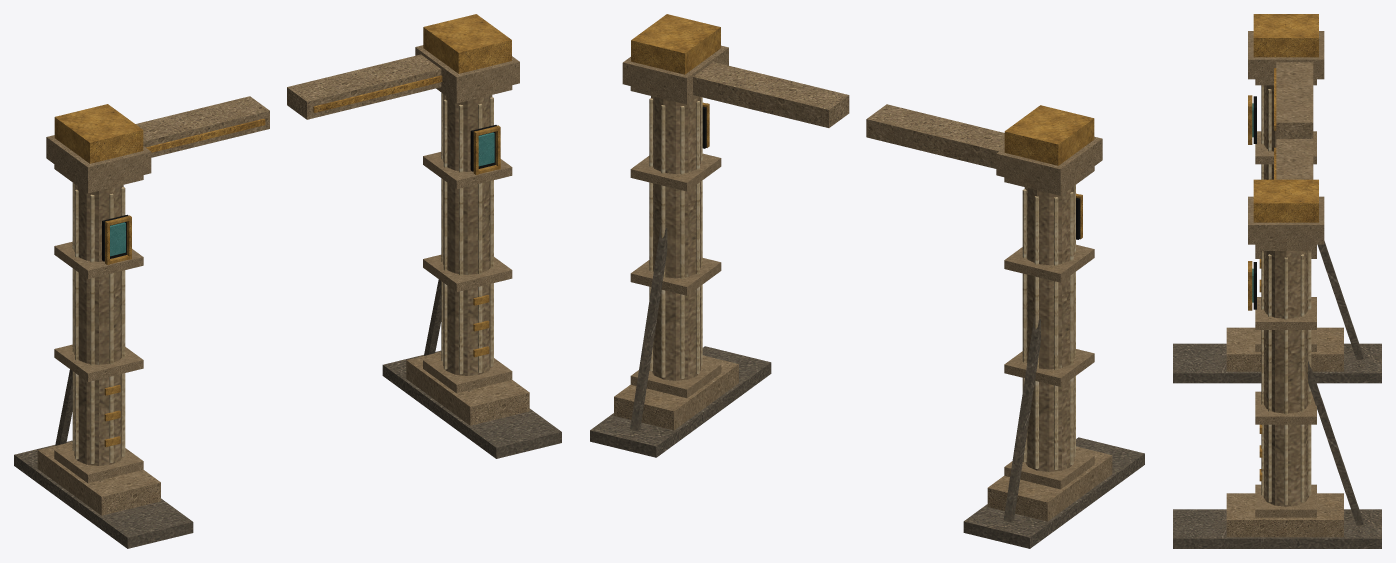
The model's file is archive-entry-gate.glb.
3 renders of one model, left to right at view 1: azimuth 30°, elevation 25°; view 2: azimuth 150°, elevation 25°; view 3: azimuth 270°, elevation 25°, orthographic. The views are drawn at different scales.
Visible parts, largest first — view 1: archive-entry-gate; view 2: archive-entry-gate; view 3: archive-entry-gate.
Boxes of the visible parts, left/top/right/bottom form: archive-entry-gate: left=14, top=14, right=561, bottom=548; archive-entry-gate: left=590, top=14, right=1144, bottom=548; archive-entry-gate: left=1173, top=14, right=1381, bottom=548.
Bounding box in the file's own units: 10.6 × 8.69 × 4.8.
Materials: 1 (1 with a texture image).
